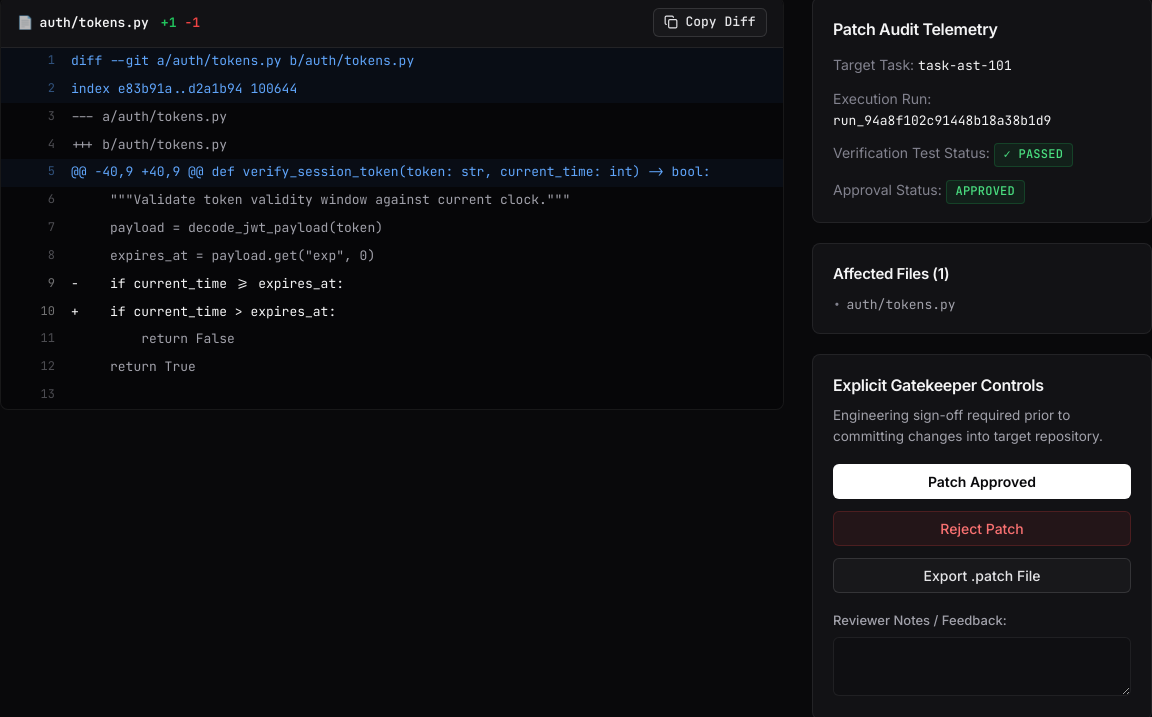
Test case: Patch Review Workflow › handles explicit patch rejection and approval controls
The image size is (1152, 717).
(page scrolled)
What coordinates should you click on to do the following:
click the button "Reject Patch"
I would click on:
 (982, 529)
Its box is left=833, top=511, right=1131, bottom=546.
(page scrolled)
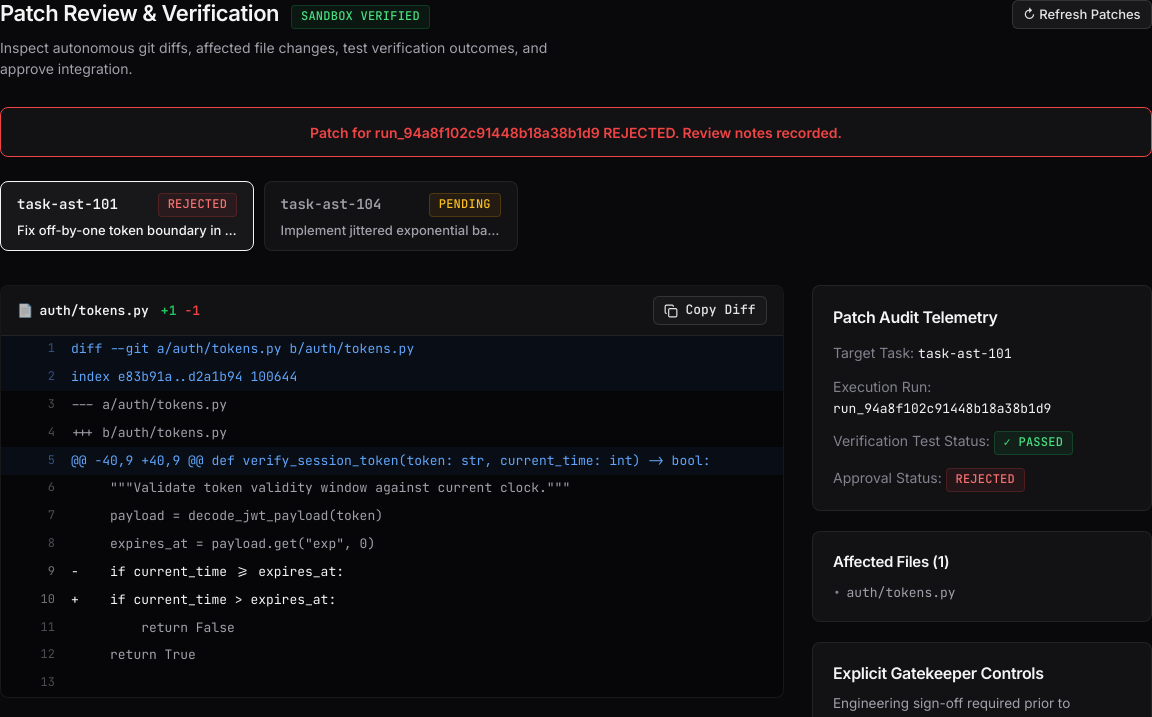
Now the text "REJECTED. Review notes recorded." is shown, box left=310, top=124, right=842, bottom=141
Switch to patch tab 1 (task-ast-104) which is pending approval
What coordinates should you click on to do the following:
click the text "task-ast-104"
I would click on:
 (331, 205)
Its box is left=281, top=195, right=381, bottom=214.
(page scrolled)
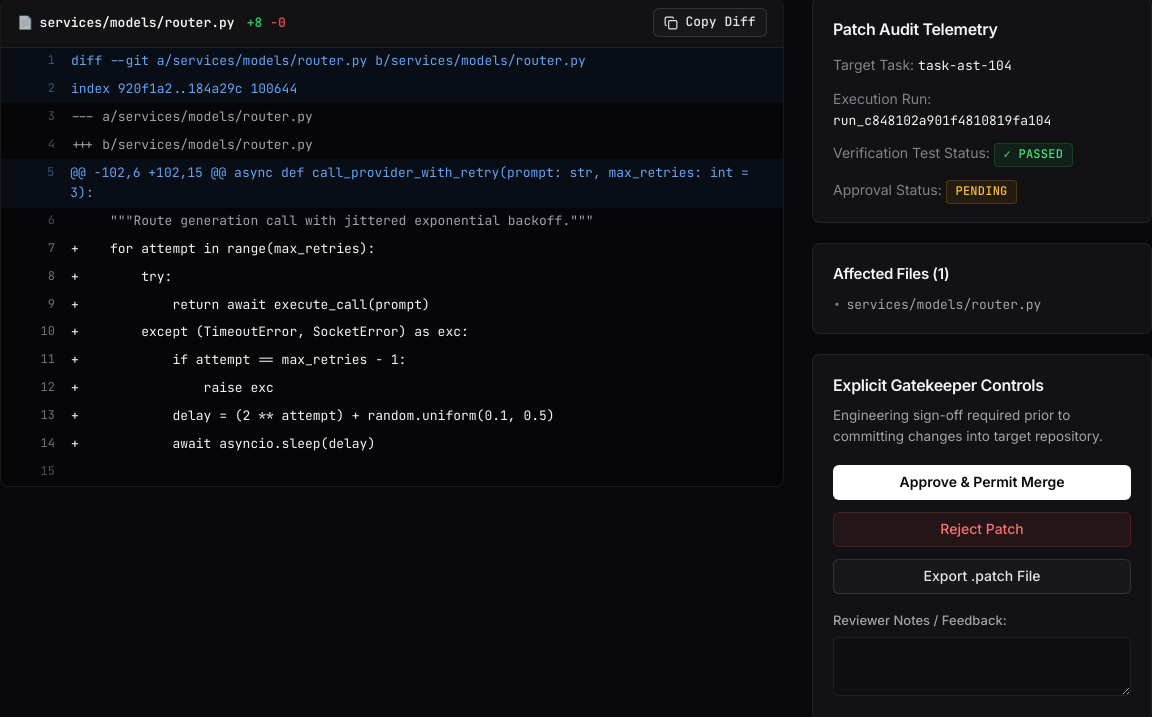
What coordinates should you click on to do the following:
click the button "Approve & Permit Merge"
I would click on:
 (982, 482)
Its box is left=833, top=464, right=1131, bottom=500.
(page scrolled)
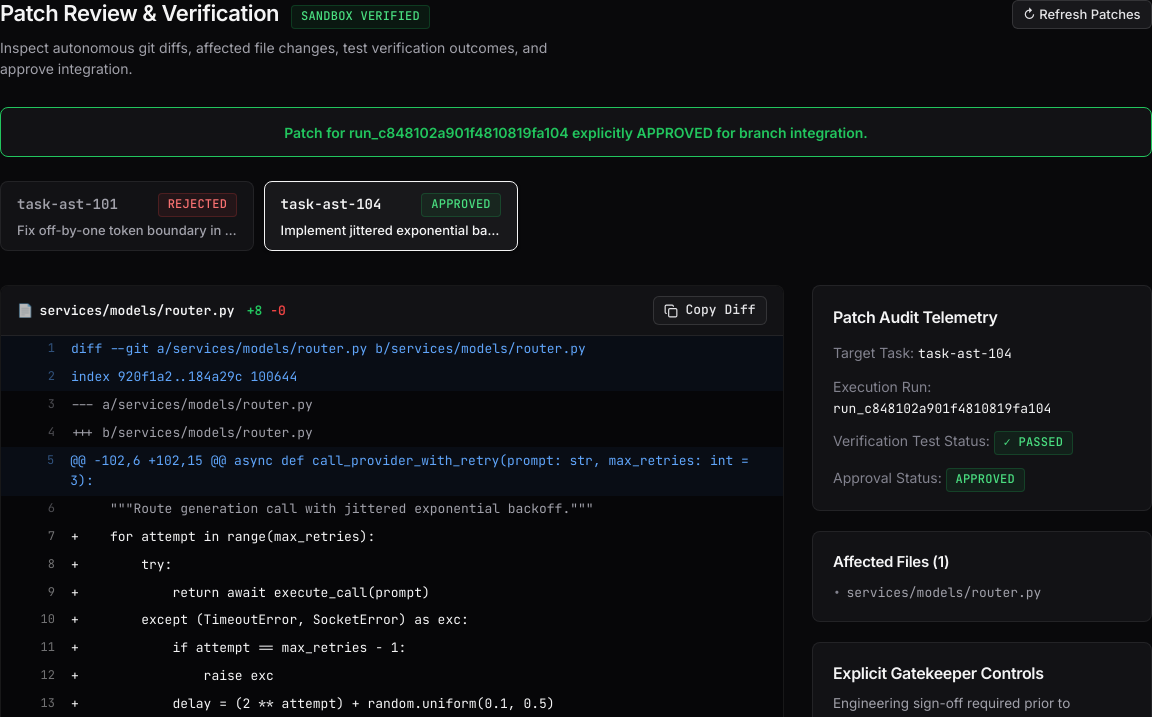
Now the text "explicitly APPROVED for branch integration" is shown, box left=284, top=124, right=868, bottom=141
